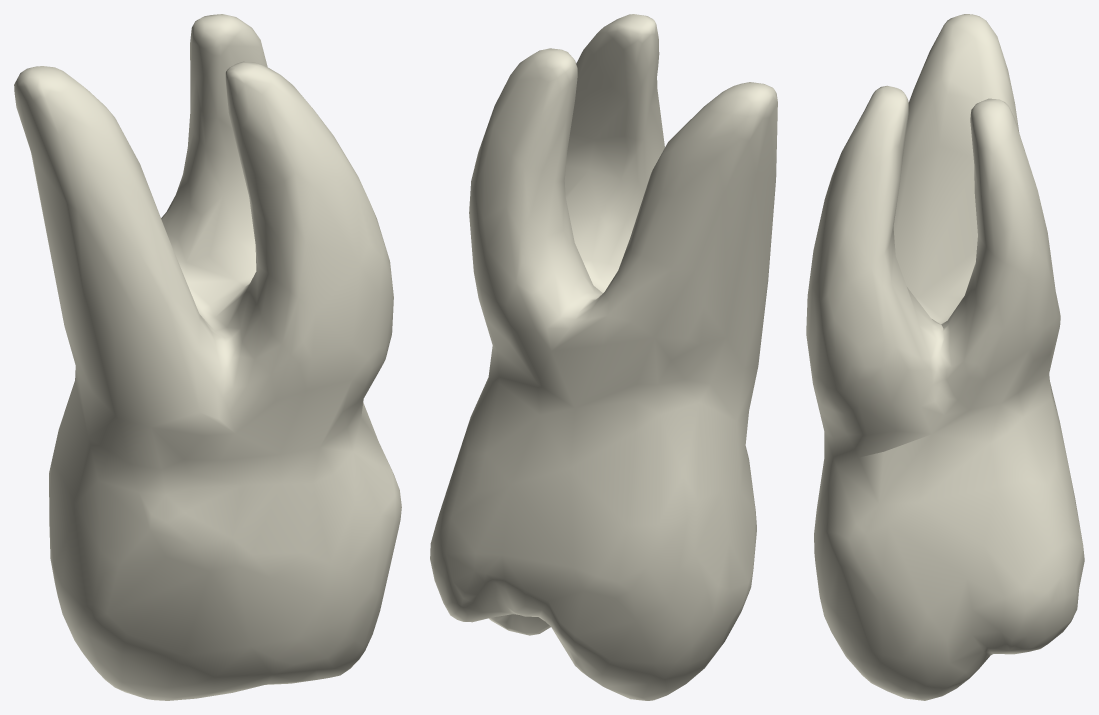
The model's file is Left second upper molar tooth.fbx.
The picture shows the model from 3 angles, left to right: view 1: azimuth 30°, elevation 25°; view 2: azimuth 150°, elevation 25°; view 3: azimuth 270°, elevation 25°; orthographic projection. The views are drawn at different scales.
Visible parts, largest first — view 1: Left second upper molar tooth; view 2: Left second upper molar tooth; view 3: Left second upper molar tooth.
Part boxes in pixels (bbox=[...]): Left second upper molar tooth: bbox=[14, 14, 401, 700]; Left second upper molar tooth: bbox=[430, 14, 777, 700]; Left second upper molar tooth: bbox=[806, 14, 1084, 700].
Size of the model in its own units: 1.58 by 3.02 by 1.32.
